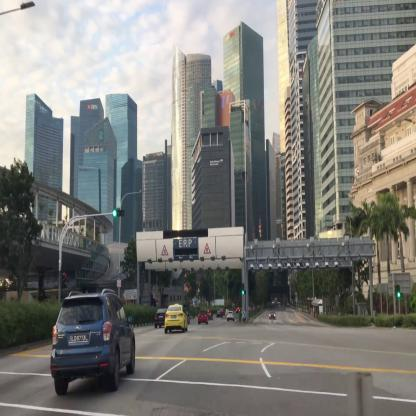green_traffic_light: (112, 209, 124, 216)
